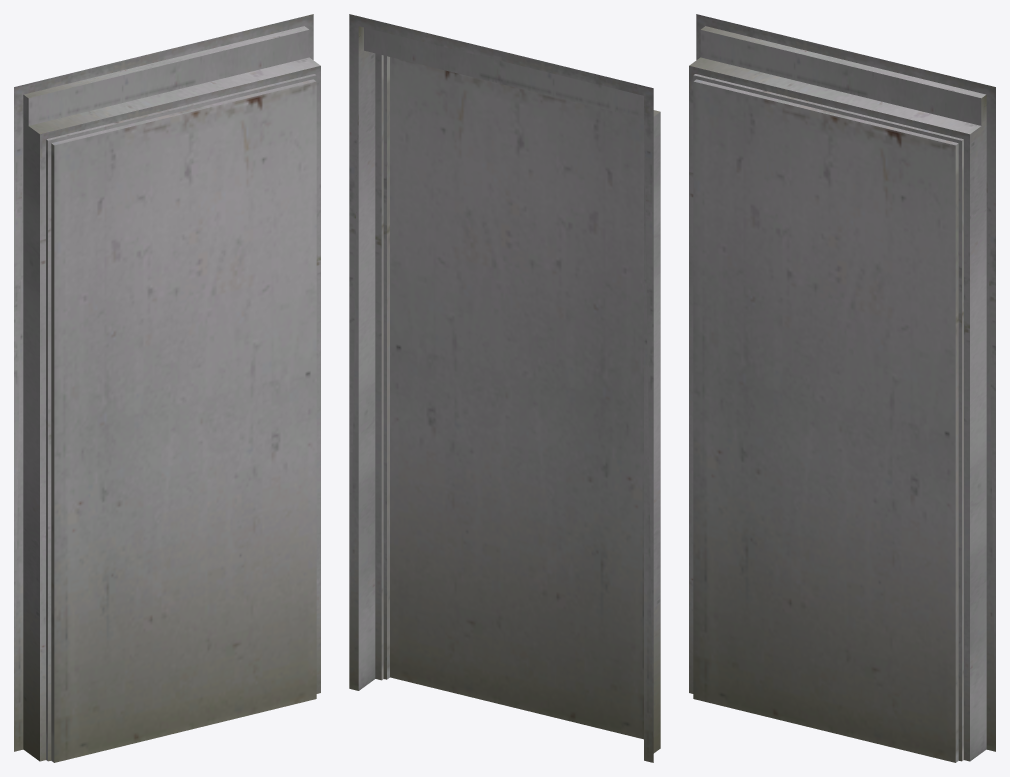
The model's file is door_urban_rooftop.glb.
The picture shows the model from 3 angles, left to right: view 1: azimuth 30°, elevation 25°; view 2: azimuth 150°, elevation 25°; view 3: azimuth 330°, elevation 25°; orthographic projection.
Visible parts, largest first — view 1: door_urban_rooftop; view 2: door_urban_rooftop; view 3: door_urban_rooftop.
Part boxes in pixels (x1,y1,x2,y2): door_urban_rooftop: [14, 14, 320, 762]; door_urban_rooftop: [349, 14, 660, 762]; door_urban_rooftop: [689, 14, 995, 762].
Size of the model in its own units: 0.9144 by 1.94 by 0.1133.
Materials: 1 (1 with a texture image).
